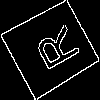R: (26, 23, 82, 77)
